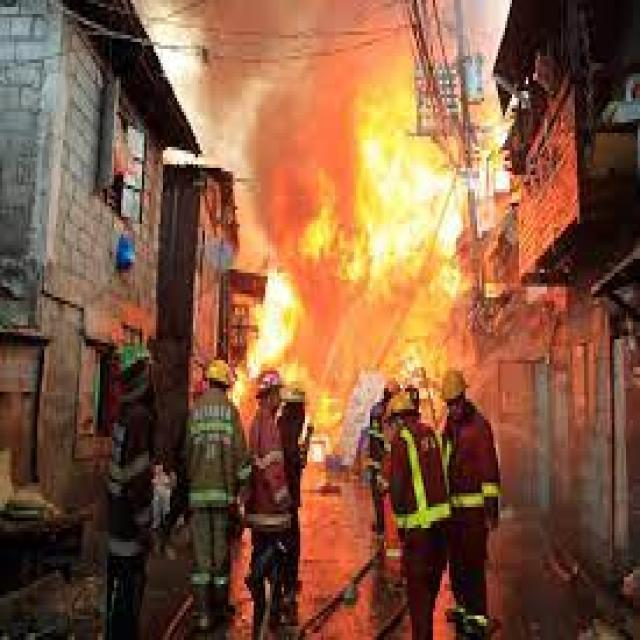Fire: (370, 150, 486, 260), (258, 290, 312, 376)
Smoke: (195, 0, 396, 281)
